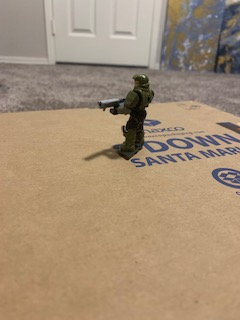soldier: (99, 71, 158, 158)
